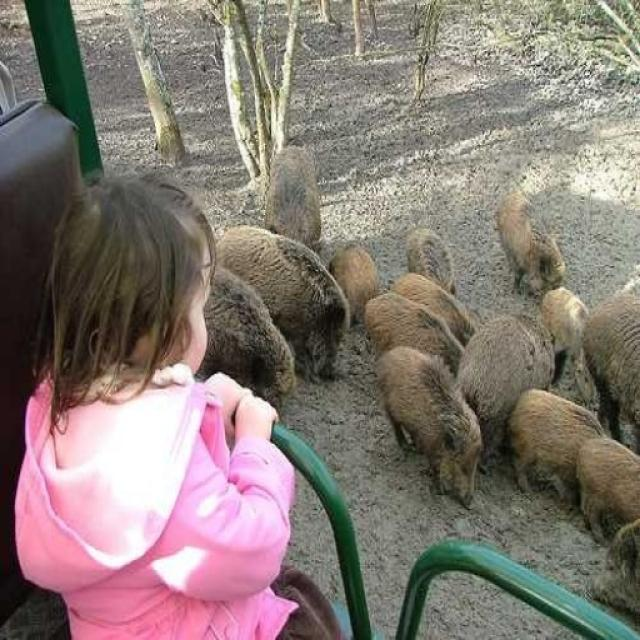pig: (206, 193, 329, 330), (382, 341, 464, 493), (219, 273, 311, 393), (456, 275, 538, 407), (497, 170, 566, 286), (495, 375, 584, 464), (392, 248, 468, 338), (581, 425, 640, 537), (599, 257, 640, 405), (365, 270, 436, 348), (395, 196, 456, 284), (354, 214, 370, 318)
